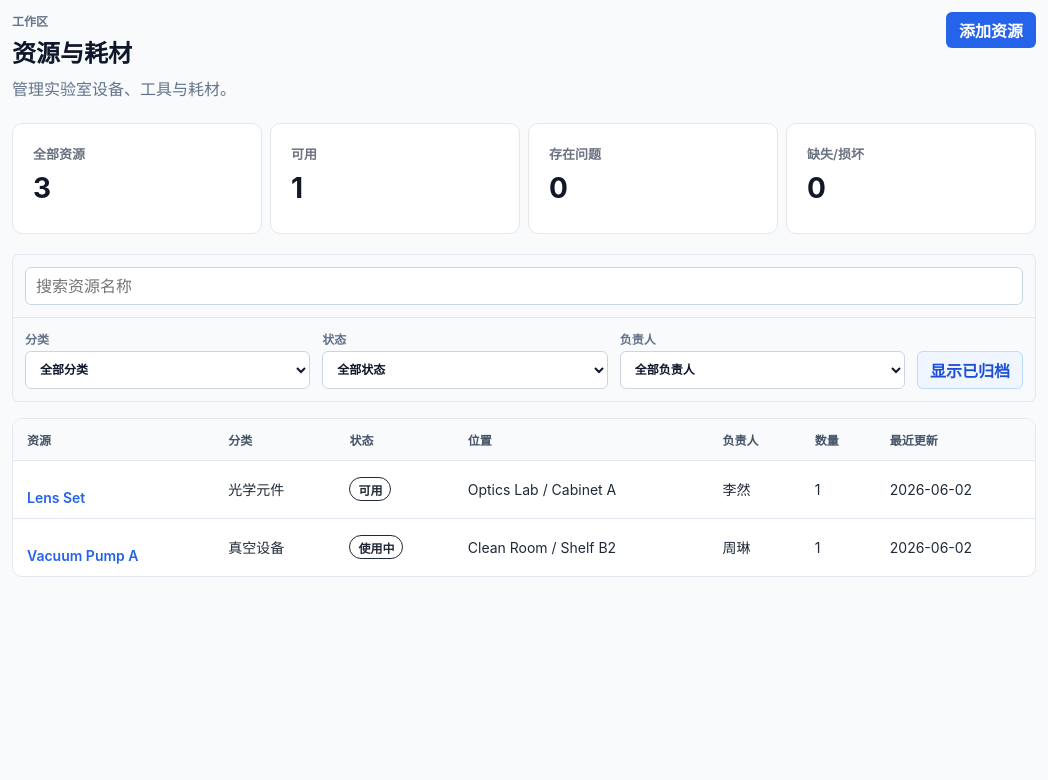
Test: ResourcesPage list › filters by search text
Expected: the link "Lens Set" is shown, 27,489 -> 85,506
Type "vacuum" into the search field labelled "搜索资源名称". click: x=524, y=286
box: 25,267 -> 1023,305
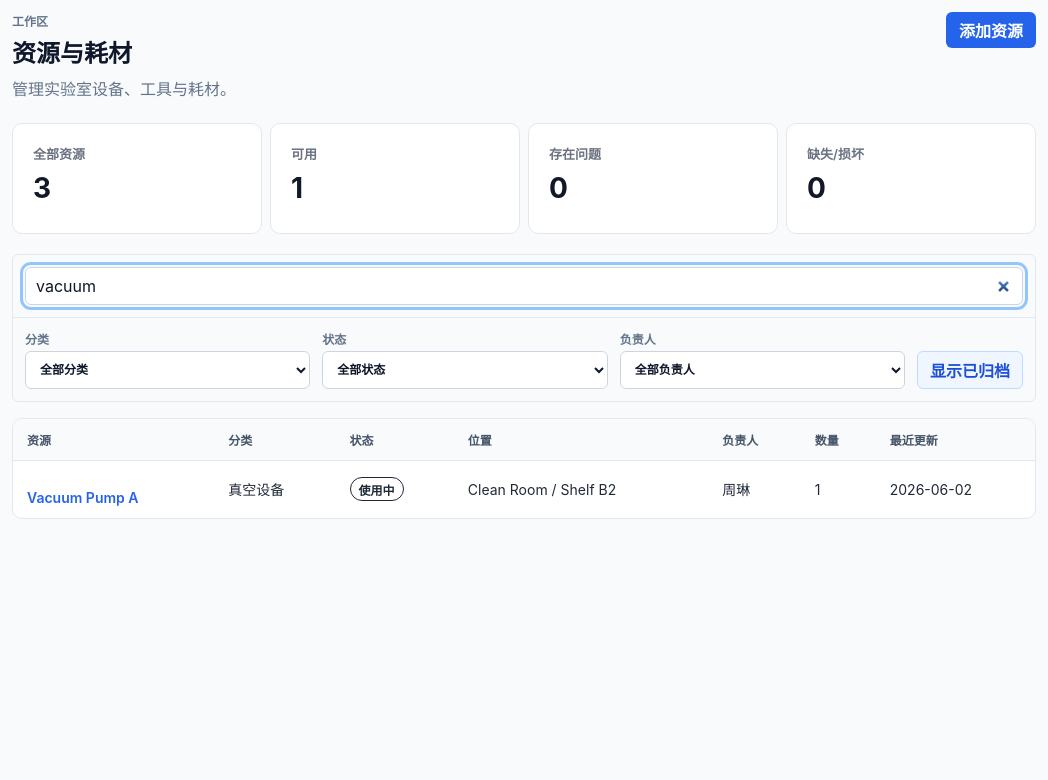
Expected: the link "Vacuum Pump A" is shown, 27,489 -> 138,506
Now the link "Lens Set" is gone
